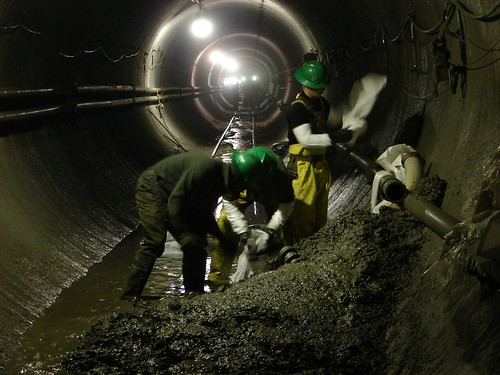person hardhat: (139, 146, 263, 292), (217, 137, 297, 278), (280, 56, 335, 245)
